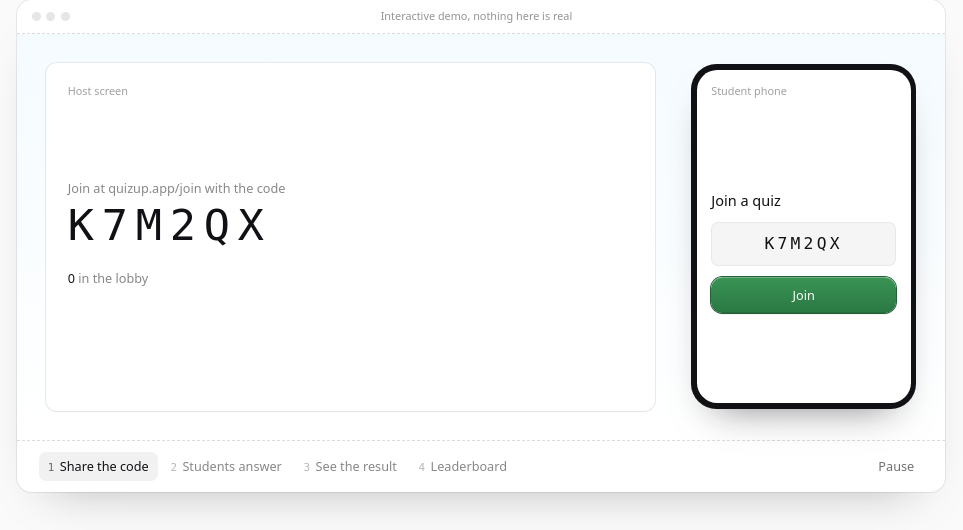
Test: HeroDemo › starts on the join code and lets the visitor join from the phone
The width and height of the screenshot is (963, 530).
Check: the text "K7M2QX" below "Join at quizup.app/join with the code" is shown, box [68,200,272,250]
Click the button "Join".
click(804, 295)  # box [711,276,896,313]
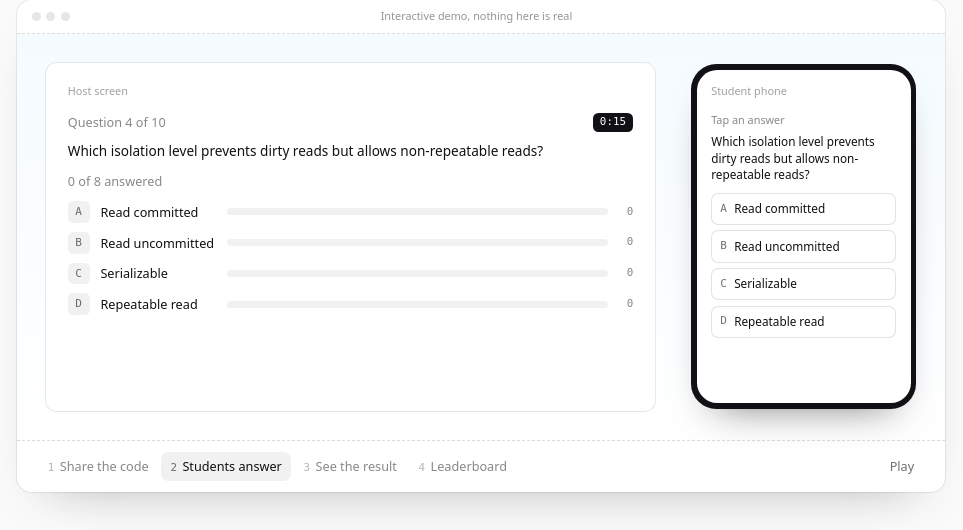
Check: the text "Tap an answer" is shown, box [711,112,785,127]
